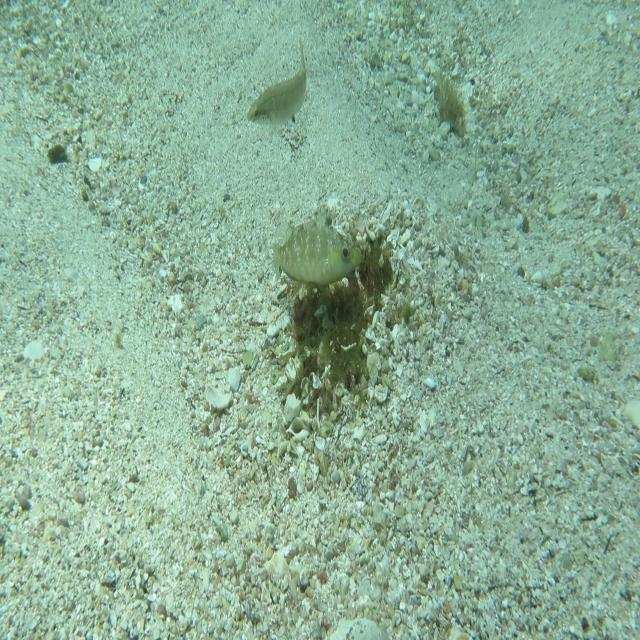FAN: (271, 205, 362, 287)
core_nest: (340, 253, 380, 292)
female: (246, 38, 309, 130)
nest: (275, 211, 404, 424)
vegetation: (435, 67, 468, 137), (48, 143, 70, 167)
